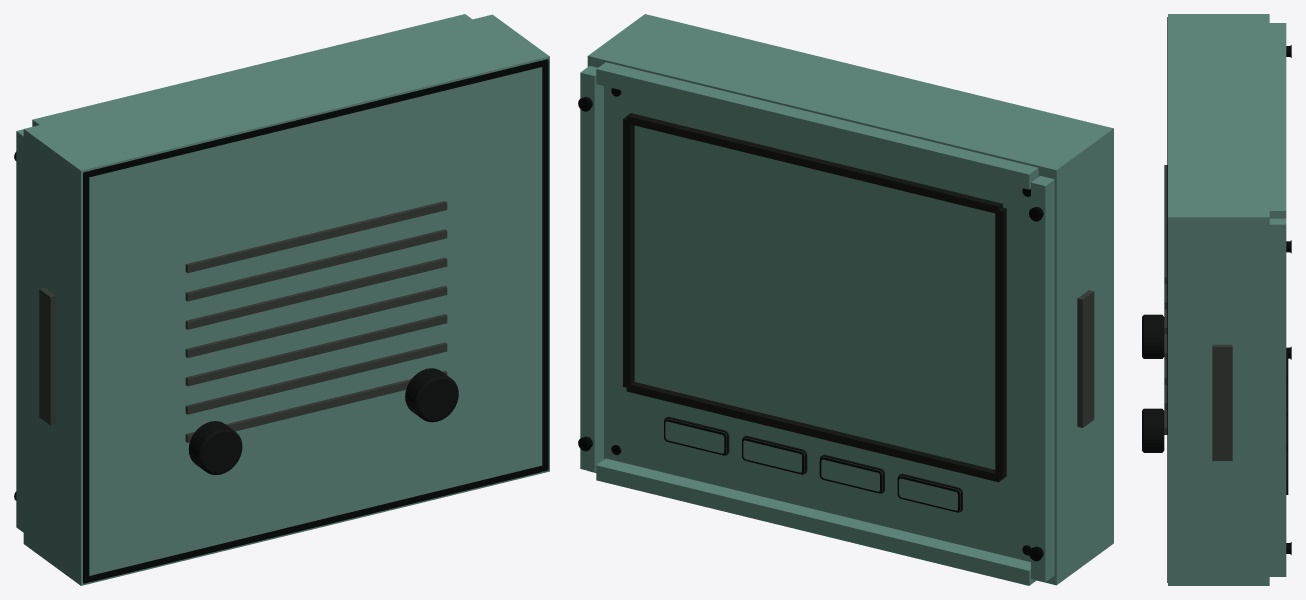
The model's file is MFDStudio.obj.
3 renders of one model, left to right at view 1: azimuth 30°, elevation 25°; view 2: azimuth 150°, elevation 25°; view 3: azimuth 270°, elevation 25°, orthographic. The views are drawn at different scales.
Visible parts, largest first — view 1: MFDStudioBody; view 2: MFDStudioBody, MFDStudioScrews; view 3: MFDStudioBody, MFDStudioScrews.
Part boxes in pixels (x1,y1,x2,y2): MFDStudioBody: (16,14,549,585); MFDStudioBody: (580,14,1113,585); MFDStudioScrews: (578,88,1043,561); MFDStudioBody: (1142,14,1288,585); MFDStudioScrews: (1286,45,1291,554).
Bounding box in the file's own units: 0.266 × 0.22 × 0.0811.
